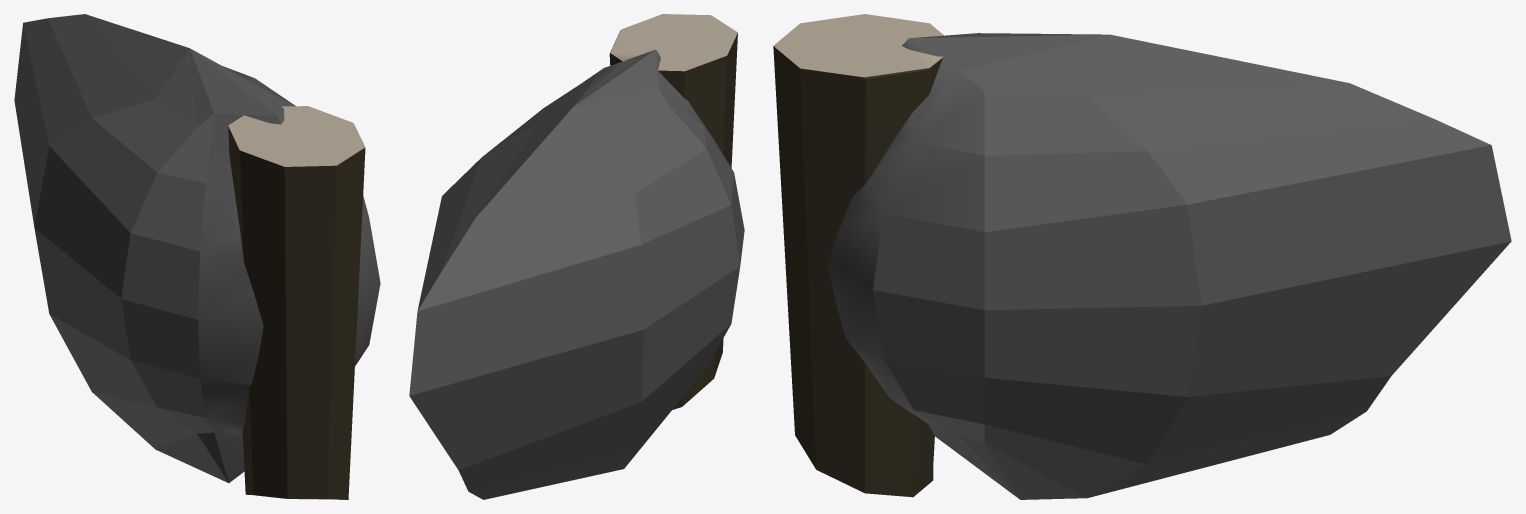
Rendered from ShittyAxeHead.fbx.
3 views of the same model, side by side, from view 1: azimuth 30°, elevation 25°; view 2: azimuth 150°, elevation 25°; view 3: azimuth 270°, elevation 25° (orthographic). The views are drawn at different scales.
Visible parts, largest first — view 1: pCylinder2; view 2: pCylinder2; view 3: pCylinder2.
Boxes of the visible parts, x1=… form: pCylinder2: x1=14, y1=14, x2=380, y2=499; pCylinder2: x1=409, y1=14, x2=744, y2=499; pCylinder2: x1=773, y1=14, x2=1511, y2=499.
Bounding box in the file's own units: 10.58 × 16.66 × 23.96.
